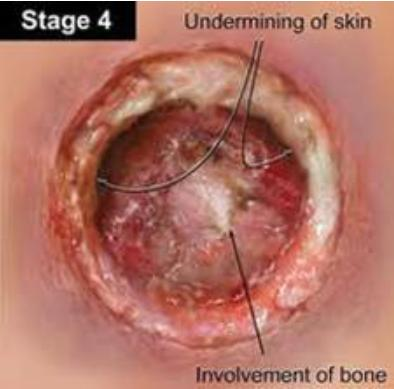Stage4: (52, 32, 355, 342)
